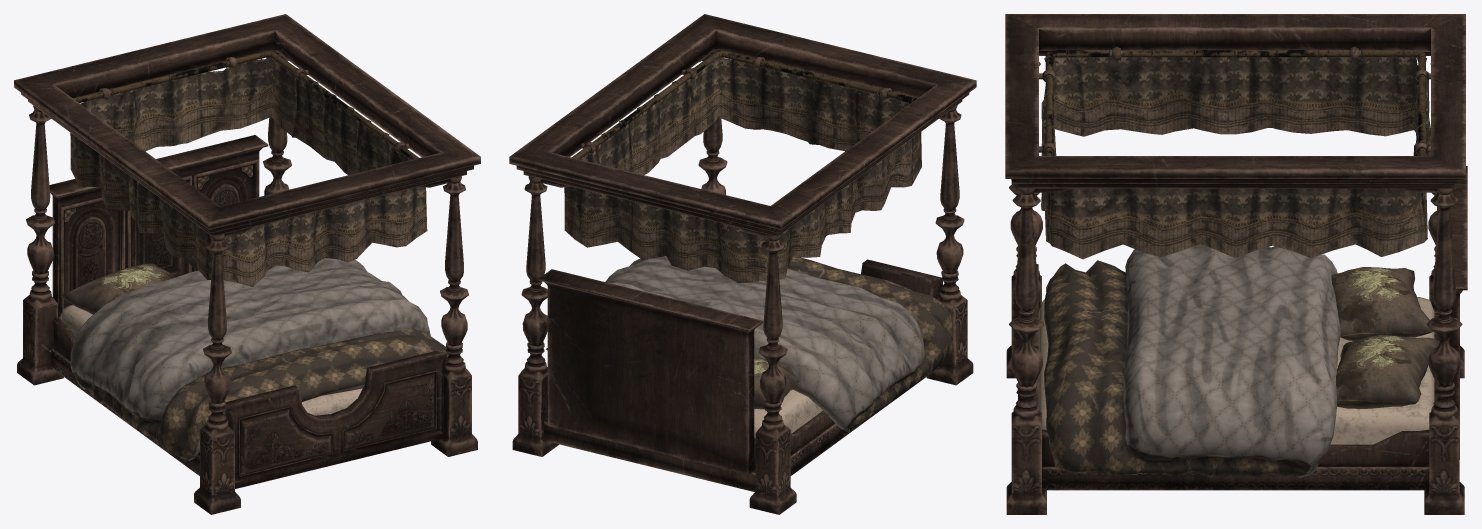
The model's file is Bed Mesh.fbx.
3 views of the same model, side by side, from view 1: azimuth 30°, elevation 25°; view 2: azimuth 150°, elevation 25°; view 3: azimuth 270°, elevation 25° (orthographic). The views are drawn at different scales.
Visible parts, largest first — view 1: mesh0.dat.desirefx.me_.obj, mesh5.dat.desirefx.me_.obj, mesh4.dat.desirefx.me_.obj, mesh1.dat.desirefx.me_.obj, mesh3.dat.desirefx.me_.obj; view 2: mesh0.dat.desirefx.me_.obj, mesh4.dat.desirefx.me_.obj, mesh5.dat.desirefx.me_.obj, mesh3.dat.desirefx.me_.obj, mesh1.dat.desirefx.me_.obj; view 3: mesh0.dat.desirefx.me_.obj, mesh5.dat.desirefx.me_.obj, mesh4.dat.desirefx.me_.obj, mesh2.dat.desirefx.me_.obj, mesh1.dat.desirefx.me_.obj, mesh3.dat.desirefx.me_.obj.
Boxes of the visible parts, x1,y1,x2,y2 form: mesh0.dat.desirefx.me_.obj: (14,14,480,514); mesh5.dat.desirefx.me_.obj: (70,258,448,460); mesh4.dat.desirefx.me_.obj: (70,58,427,286); mesh1.dat.desirefx.me_.obj: (60,263,175,314); mesh3.dat.desirefx.me_.obj: (60,305,362,415); mesh0.dat.desirefx.me_.obj: (509,14,976,514); mesh4.dat.desirefx.me_.obj: (564,57,921,282); mesh5.dat.desirefx.me_.obj: (605,256,952,431); mesh3.dat.desirefx.me_.obj: (754,389,822,437); mesh1.dat.desirefx.me_.obj: (754,357,799,409); mesh0.dat.desirefx.me_.obj: (1005,14,1467,514); mesh5.dat.desirefx.me_.obj: (1044,244,1340,477); mesh4.dat.desirefx.me_.obj: (1041,57,1430,259); mesh2.dat.desirefx.me_.obj: (1335,334,1439,409); mesh1.dat.desirefx.me_.obj: (1331,267,1433,340); mesh3.dat.desirefx.me_.obj: (1038,297,1434,444).
Bounding box in the file's own units: 5.75 × 5.36 × 6.5.
